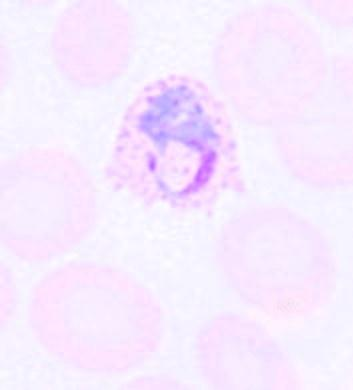Infected: (107, 73, 247, 221)
Uninfected: (30, 258, 162, 370), (213, 0, 327, 125), (216, 202, 331, 318), (0, 147, 104, 256), (276, 57, 353, 195), (191, 312, 292, 390), (52, 0, 133, 85)
